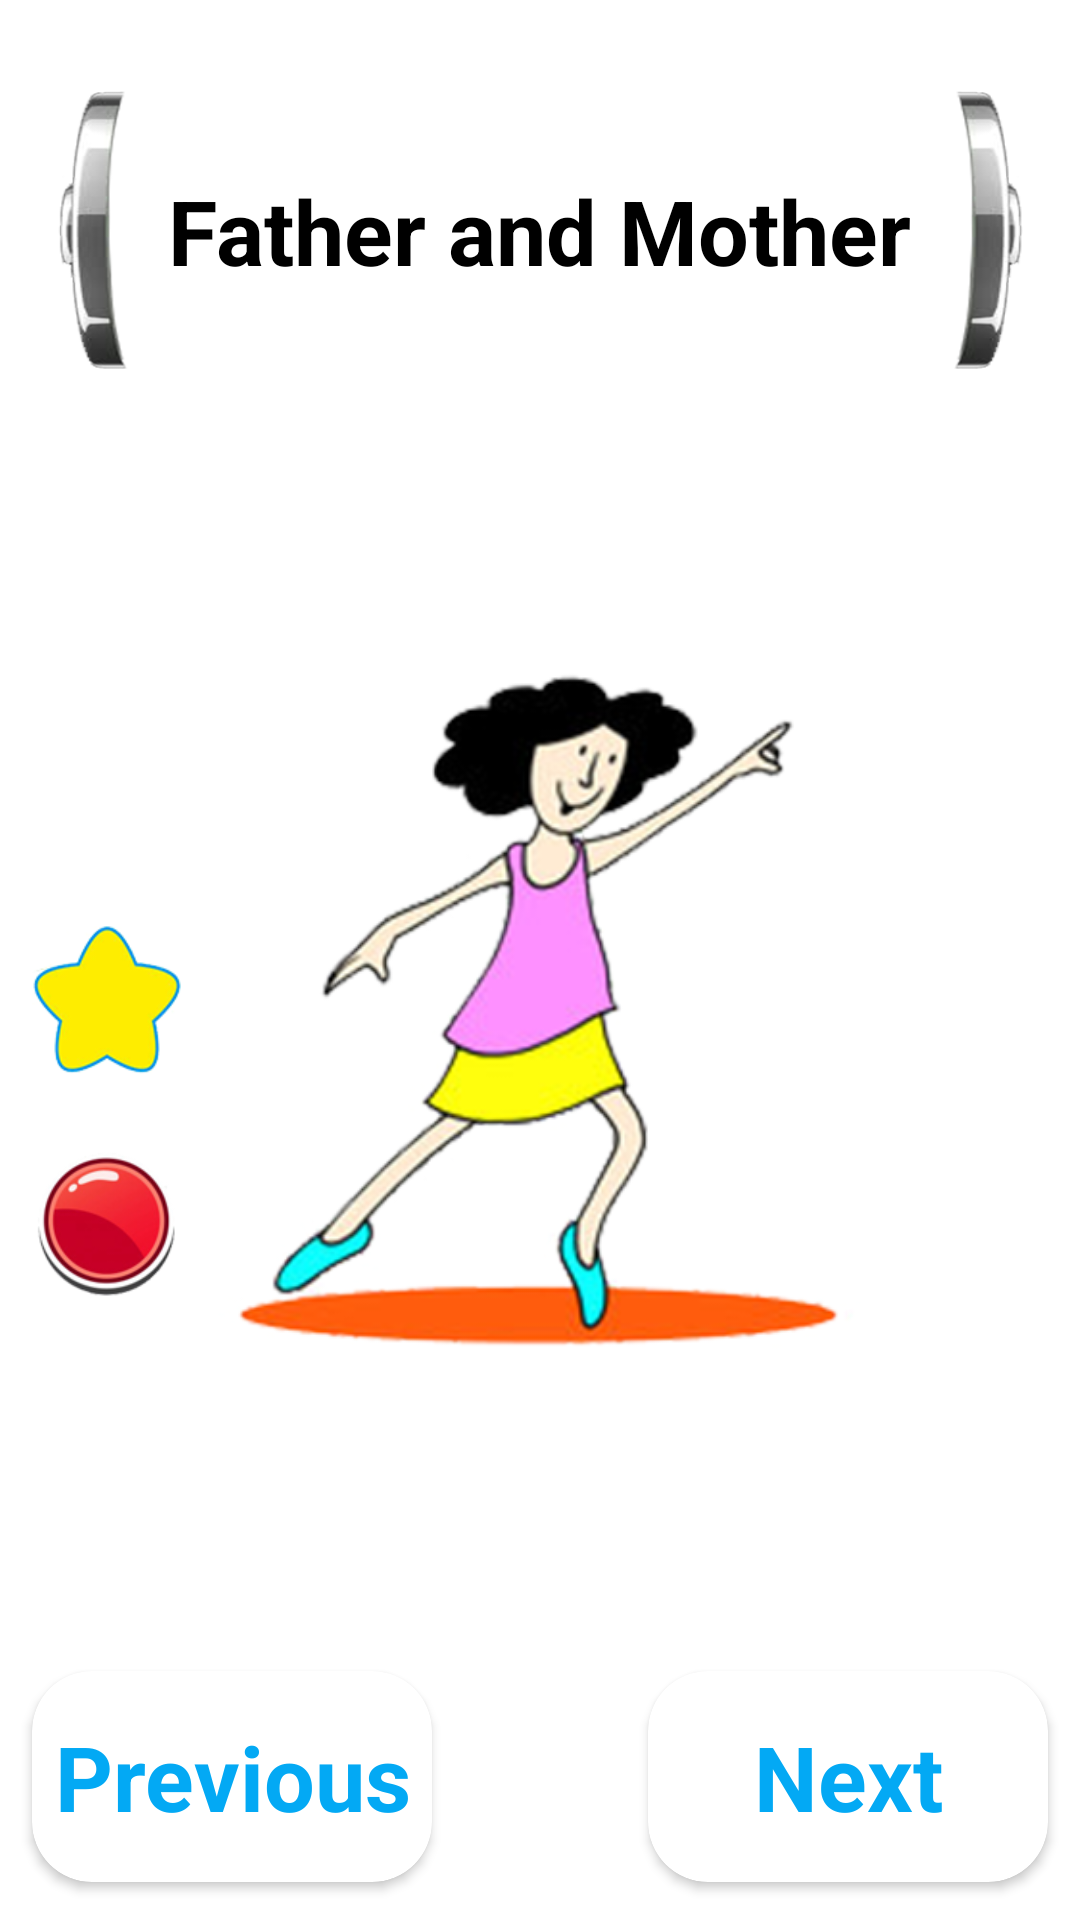

Icons on this 1080 x 1920 Android screen, each with the point to tap as (x,y):
btnred: (106,1226)
star: (107,999)
